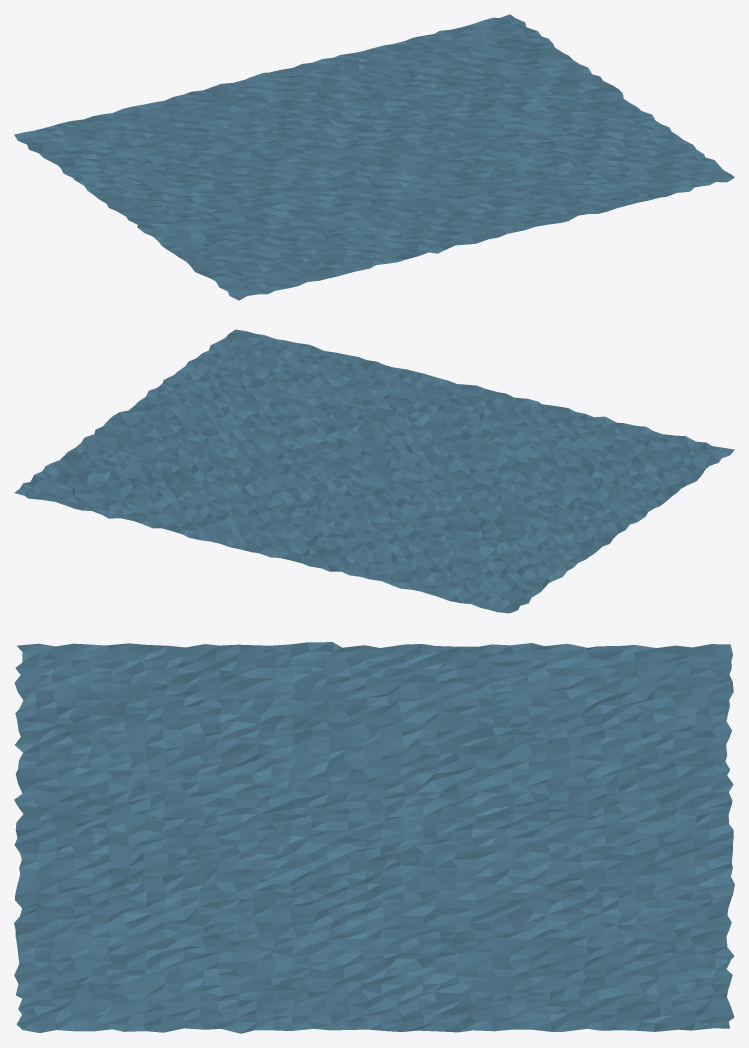
Rendered from seabed.glb.
3 renders of one model, top to bottom at view 1: azimuth 30°, elevation 25°; view 2: azimuth 150°, elevation 25°; view 3: azimuth 270°, elevation 25°, orthographic. The views are drawn at different scales.
Visible parts, largest first — view 1: LT_SEABED; view 2: LT_SEABED; view 3: LT_SEABED.
Part boxes in pixels (x1,y1,x2,y2): LT_SEABED: (14, 14, 734, 300); LT_SEABED: (14, 329, 734, 613); LT_SEABED: (14, 642, 734, 1033).
Size of the model in its own units: 151 by 0.9714 by 119.
